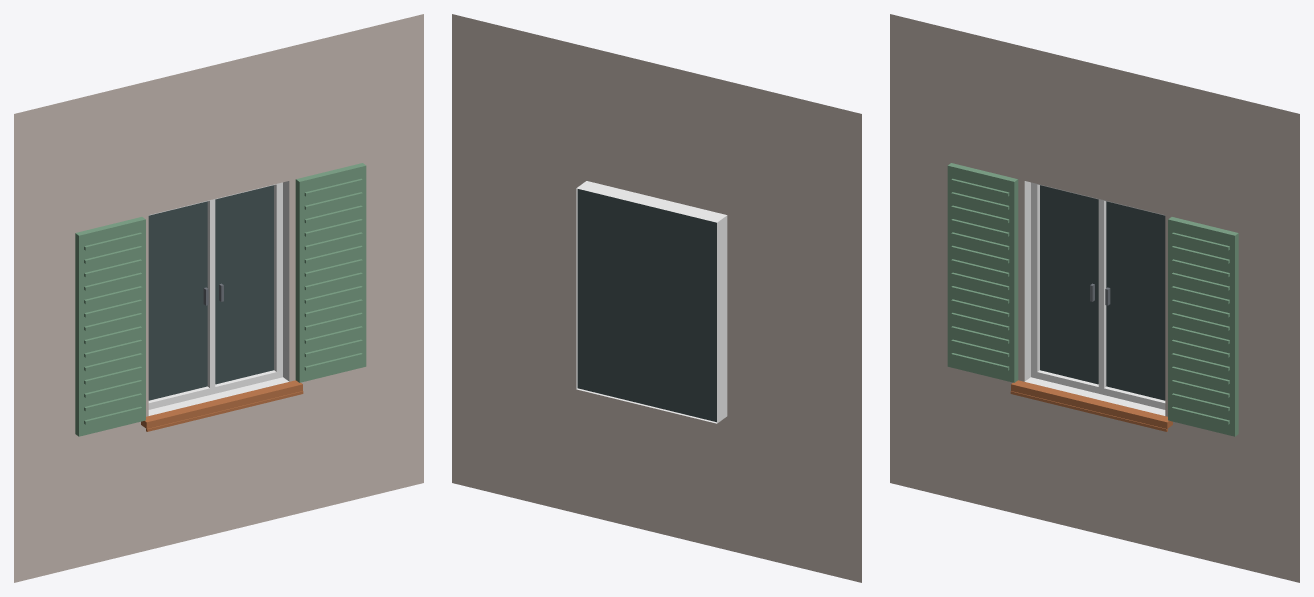
File: top-w3_close.fbx
3 views of the same model, side by side, from view 1: azimuth 30°, elevation 25°; view 2: azimuth 150°, elevation 25°; view 3: azimuth 330°, elevation 25° (orthographic).
Parts seen in each view (by area): view 1: a2000s2/200/top-w3_close; view 2: a2000s2/200/top-w3_close; view 3: a2000s2/200/top-w3_close.
Part boxes in pixels (bbox=[...]): a2000s2/200/top-w3_close: bbox=[14, 14, 423, 582]; a2000s2/200/top-w3_close: bbox=[452, 14, 861, 582]; a2000s2/200/top-w3_close: bbox=[890, 14, 1299, 582].
Bounding box in the file's own units: 3.2 × 3.5 × 0.225.
